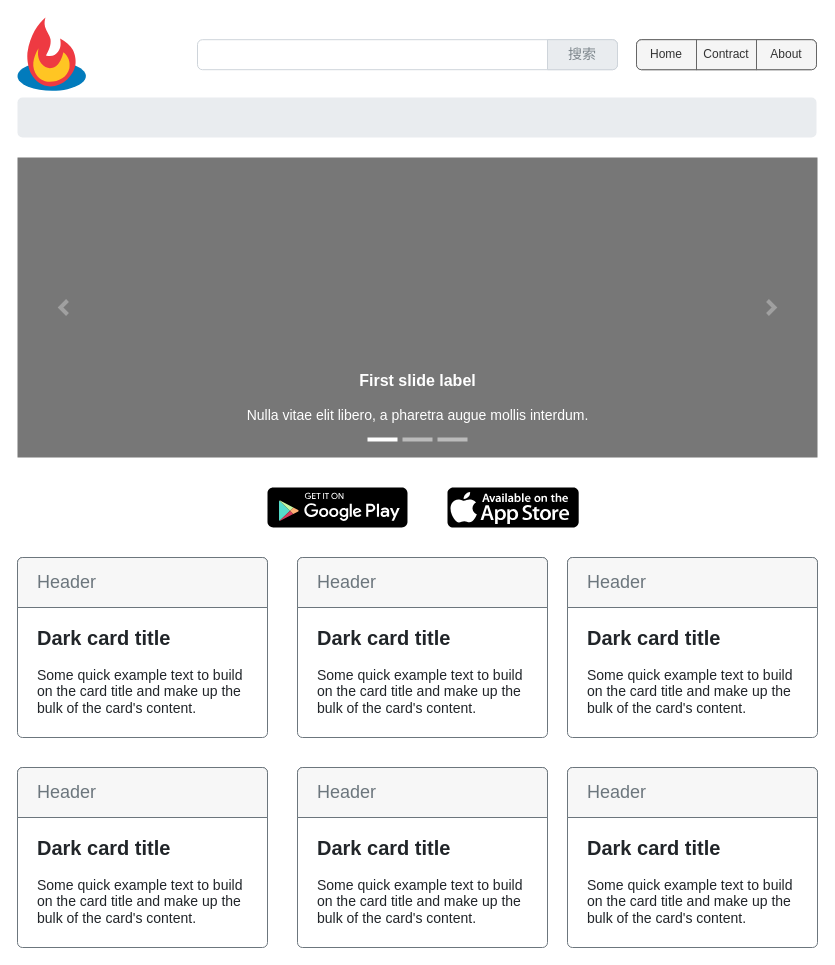
The diagram is 835 pixels wide and 965 high, and some of its shapes have lost their labels. Each missing label, with the box of its shape:
First slide: (17, 157, 817, 457)
Home / Library / Data: (17, 97, 816, 137)
大家都在搜: (196, 39, 618, 70)
